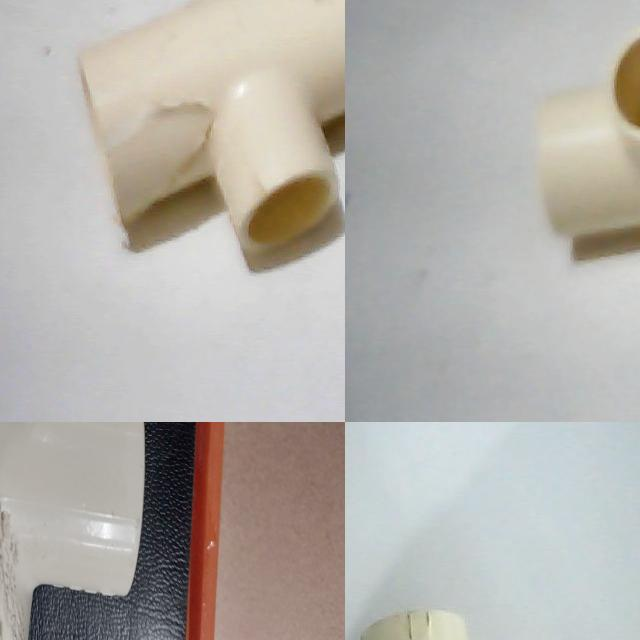Defective: (114, 85, 230, 225), (79, 508, 208, 588), (61, 496, 199, 543)
T Joint: (0, 422, 202, 640), (538, 28, 640, 238)
